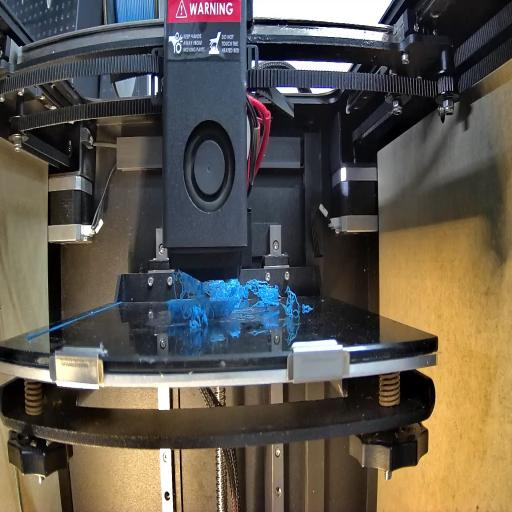spaghetti: (211, 278, 285, 308), (180, 271, 209, 331), (286, 288, 303, 320)
